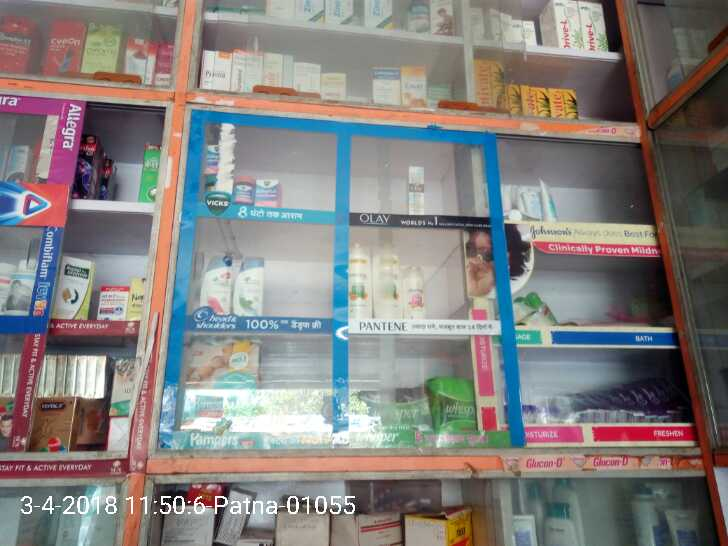vicks: (254, 181, 281, 209), (207, 144, 232, 173), (232, 173, 253, 202)
